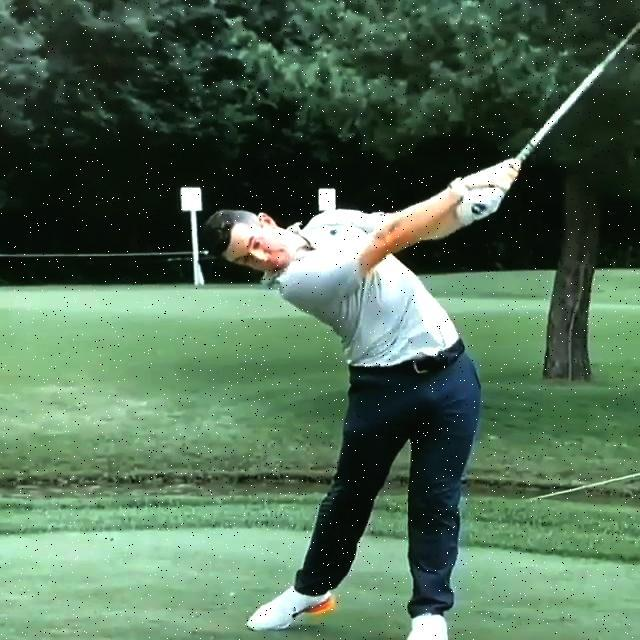ClubHandle: (473, 21, 640, 217)
